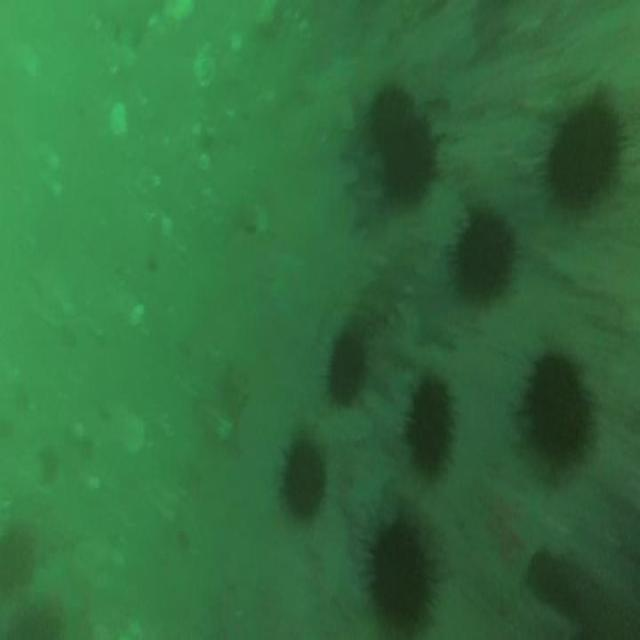echinus: (551, 102, 621, 208), (528, 355, 593, 460), (371, 525, 430, 629), (457, 213, 513, 299), (407, 378, 454, 474), (386, 112, 437, 193), (281, 444, 324, 518), (329, 338, 366, 400), (372, 89, 410, 131)
holothurian: (348, 228, 432, 312)
starfish: (419, 270, 456, 351)
